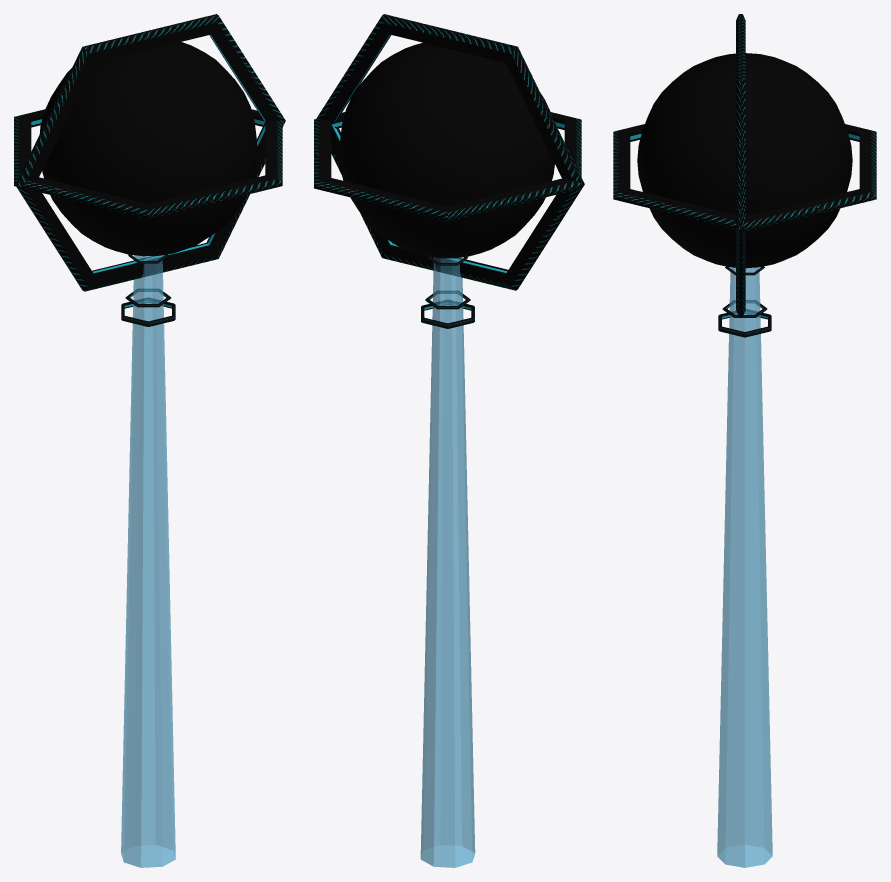
File: Energy_Ball_Projector_Art.fbx
3 views of the same model, side by side, from view 1: azimuth 30°, elevation 25°; view 2: azimuth 150°, elevation 25°; view 3: azimuth 270°, elevation 25° (orthographic). The views are drawn at different scales.
Visible parts, largest first — view 1: Energy_Ball_Projector; view 2: Energy_Ball_Projector; view 3: Energy_Ball_Projector.
Part boxes in pixels (x1,y1,x2,y2): Energy_Ball_Projector: (14, 14, 285, 867); Energy_Ball_Projector: (314, 14, 584, 867); Energy_Ball_Projector: (613, 14, 876, 867).
Bounding box in the file's own units: 2.66 × 7.81 × 2.3.
